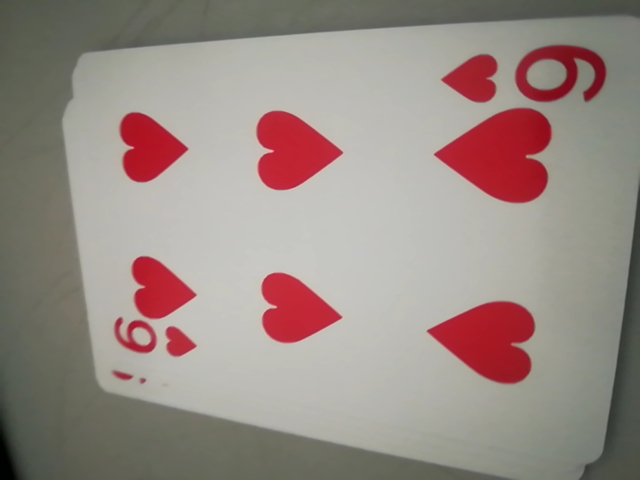hx 6: (439, 33, 607, 111)
